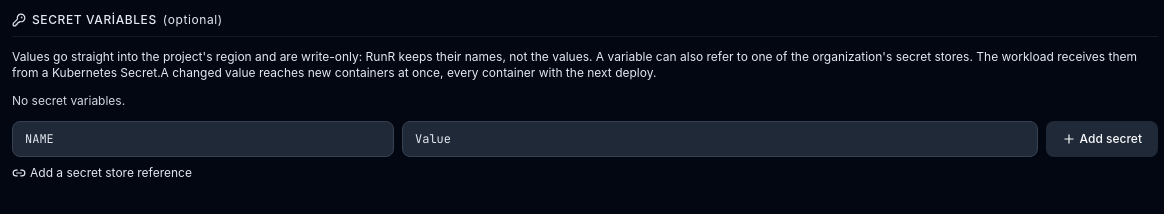
Test: SecretEnvVarsEditor — where values live (pass-through, secret stores) › shows the server message when the region does not answer
Type "NEW_TOKEN" into the field with test id "secret-new-name" at [203, 139], box [12,121,394,157]
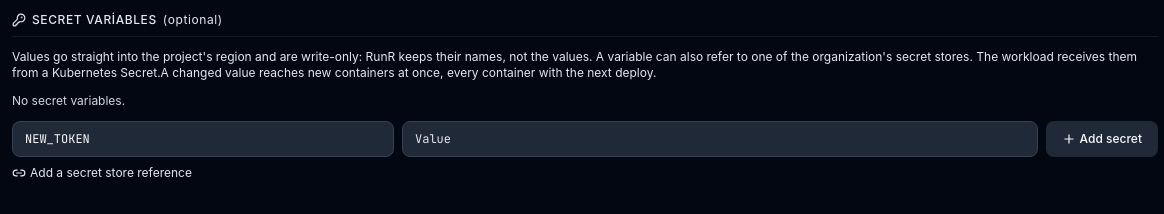
Type "placeholder" into the password field with test id "secret-new-value" at [720, 139], box [402,121,1038,157]
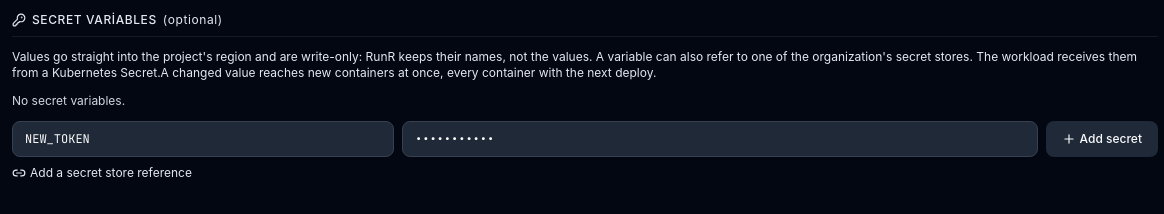
Click the button with test id "secret-add" at [1102, 139], box [1046,121,1158,157]
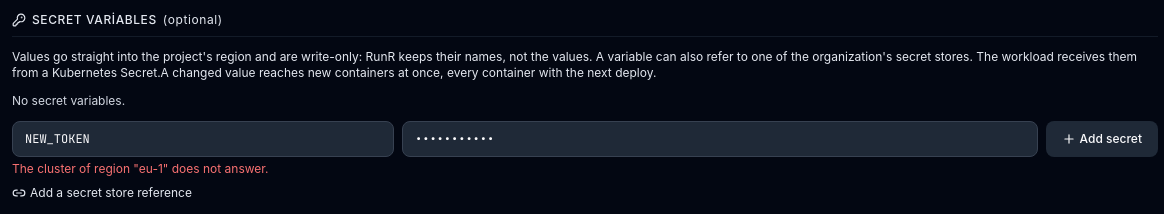
Now the text with test id "secret-error" reads "The cluster of region \"eu-1\" does not answer.", box [12,161,269,176]
